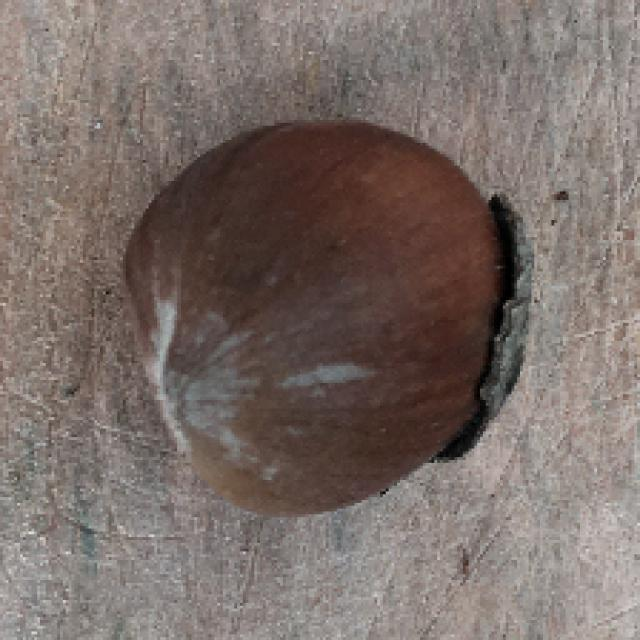damagedHazelnut: (119, 115, 532, 520)
